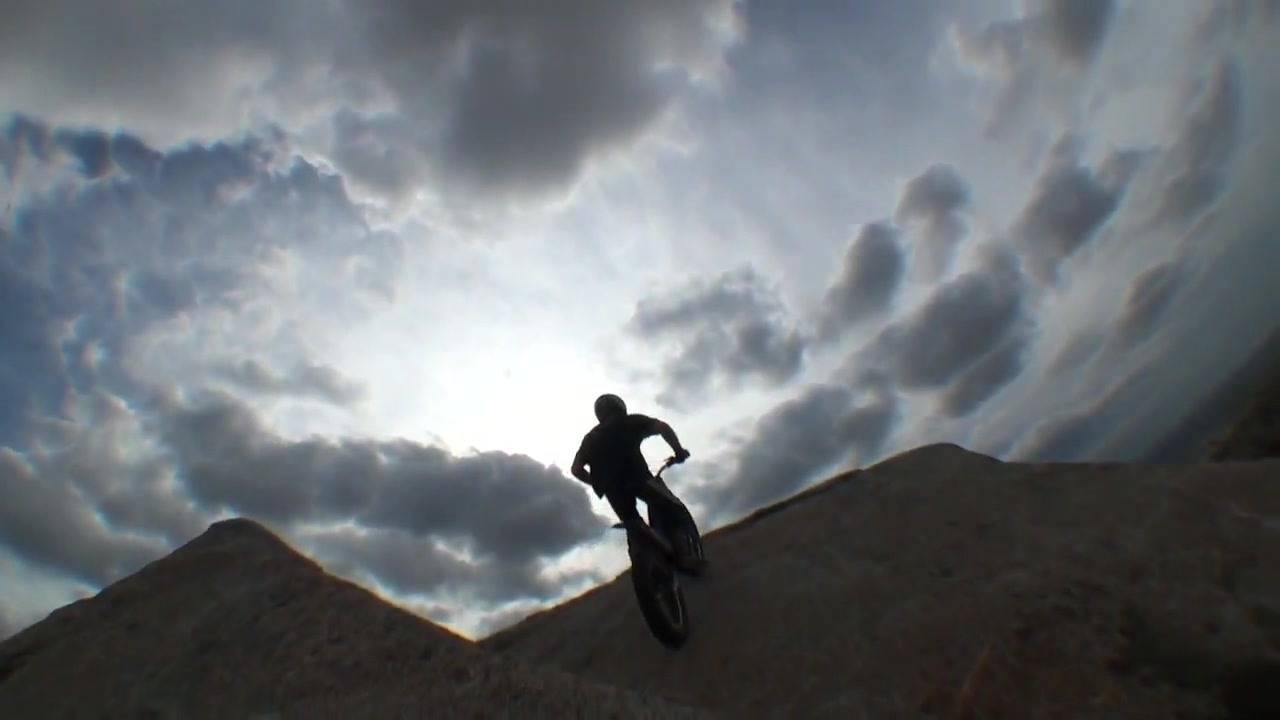motorbike: (602, 447, 713, 652)
